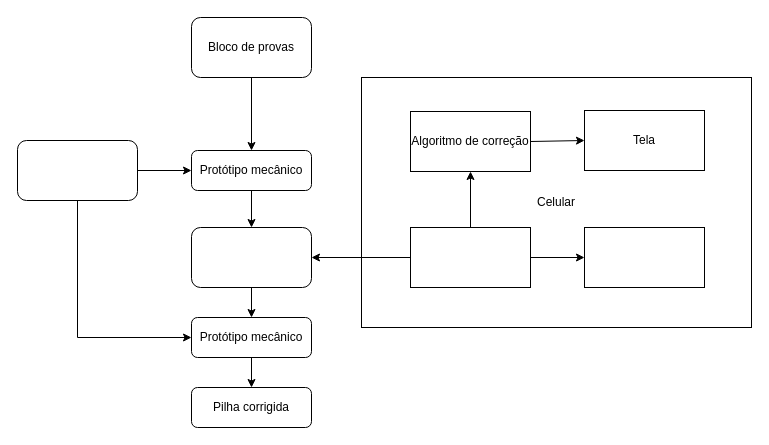
Image size: 769x445. Some labels were removed from this diagram. The shapes that lost their labels are listed below. From the top down, each one's centre as x and y in pixels, then its label:
[77,170]: Microcontrolador
[251,257]: Base de observação
[470,257]: Câmera
[644,257]: Memória
